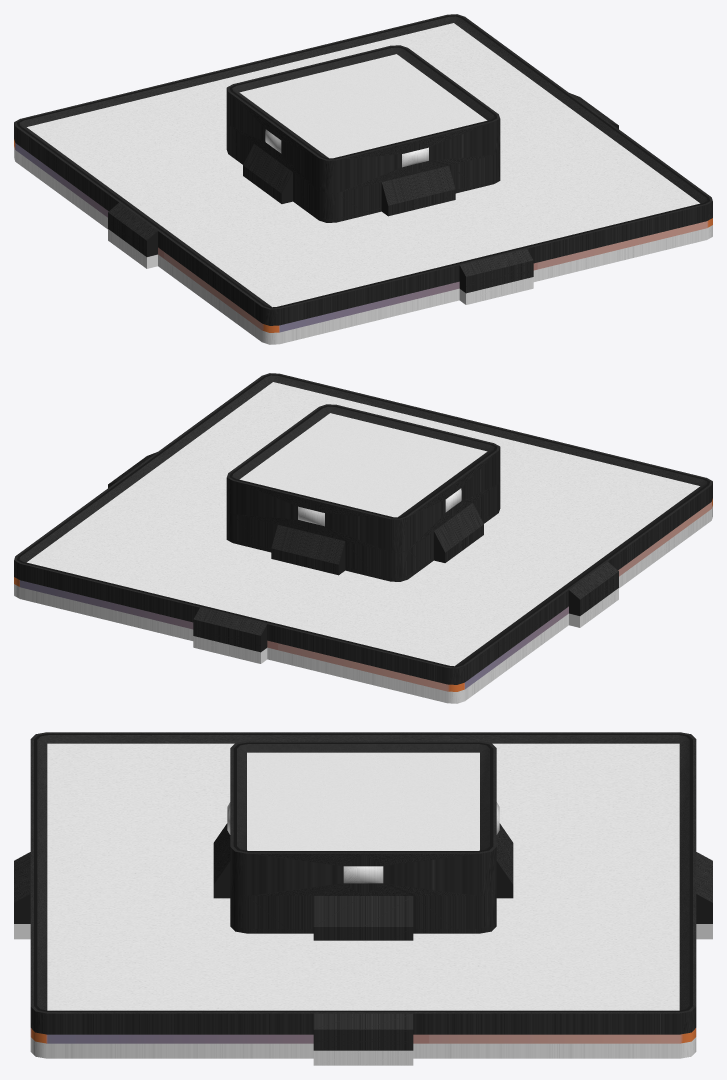
The model's file is npc_vendor.dae.
The picture shows the model from 3 angles, top to bottom: view 1: azimuth 30°, elevation 25°; view 2: azimuth 150°, elevation 25°; view 3: azimuth 270°, elevation 25°; orthographic projection. The views are drawn at different scales.
Visible parts, largest first — view 1: npc_vendor_port_L, npc_vendor_S, npc_vendor_port_S; view 2: npc_vendor_port_L, npc_vendor_S, npc_vendor_port_S; view 3: npc_vendor_port_L, npc_vendor_S, npc_vendor_port_S.
Part boxes in pixels (<box>): npc_vendor_port_L: <box>14,14,712,344</box>; npc_vendor_S: <box>226,45,500,221</box>; npc_vendor_port_S: <box>226,146,500,222</box>; npc_vendor_port_L: <box>14,373,712,703</box>; npc_vendor_S: <box>226,404,500,581</box>; npc_vendor_port_S: <box>232,505,500,581</box>; npc_vendor_port_L: <box>14,732,712,1065</box>; npc_vendor_S: <box>213,741,513,940</box>; npc_vendor_port_S: <box>223,894,503,933</box>.
Bounding box in the file's own units: 2.1 × 2.1 × 0.4.
4 materials, 3 textured.
